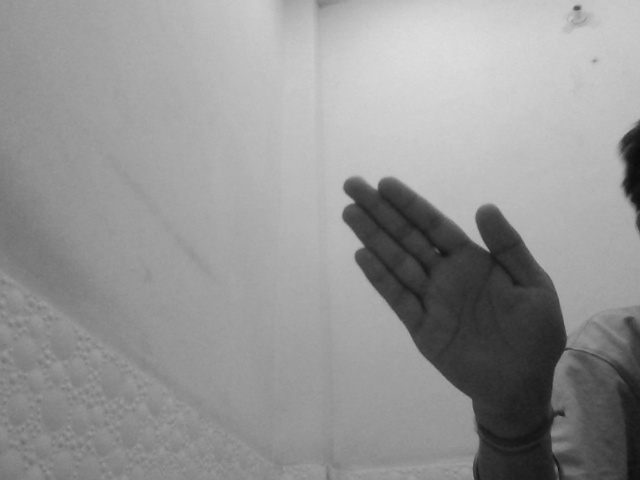Hello: (337, 170, 573, 410)
